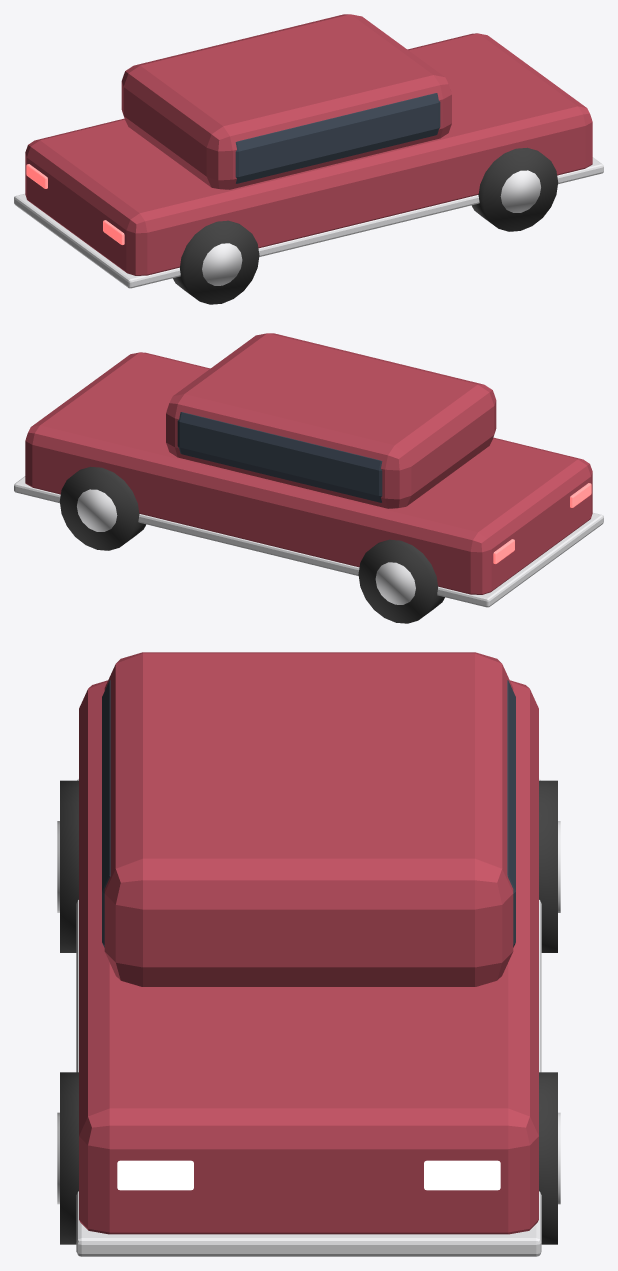
The model's file is car.glb.
3 renders of one model, top to bottom at view 1: azimuth 30°, elevation 25°; view 2: azimuth 150°, elevation 25°; view 3: azimuth 270°, elevation 25°, orthographic. The views are drawn at different scales.
Visible parts, largest first — view 1: car; view 2: car; view 3: car.
Boxes of the visible parts, <box> form: car: <box>14,14,603,304</box>; car: <box>14,333,603,623</box>; car: <box>57,652,560,1256</box>.
Size of the model in its own units: 4.3 by 1.36 by 1.97.
